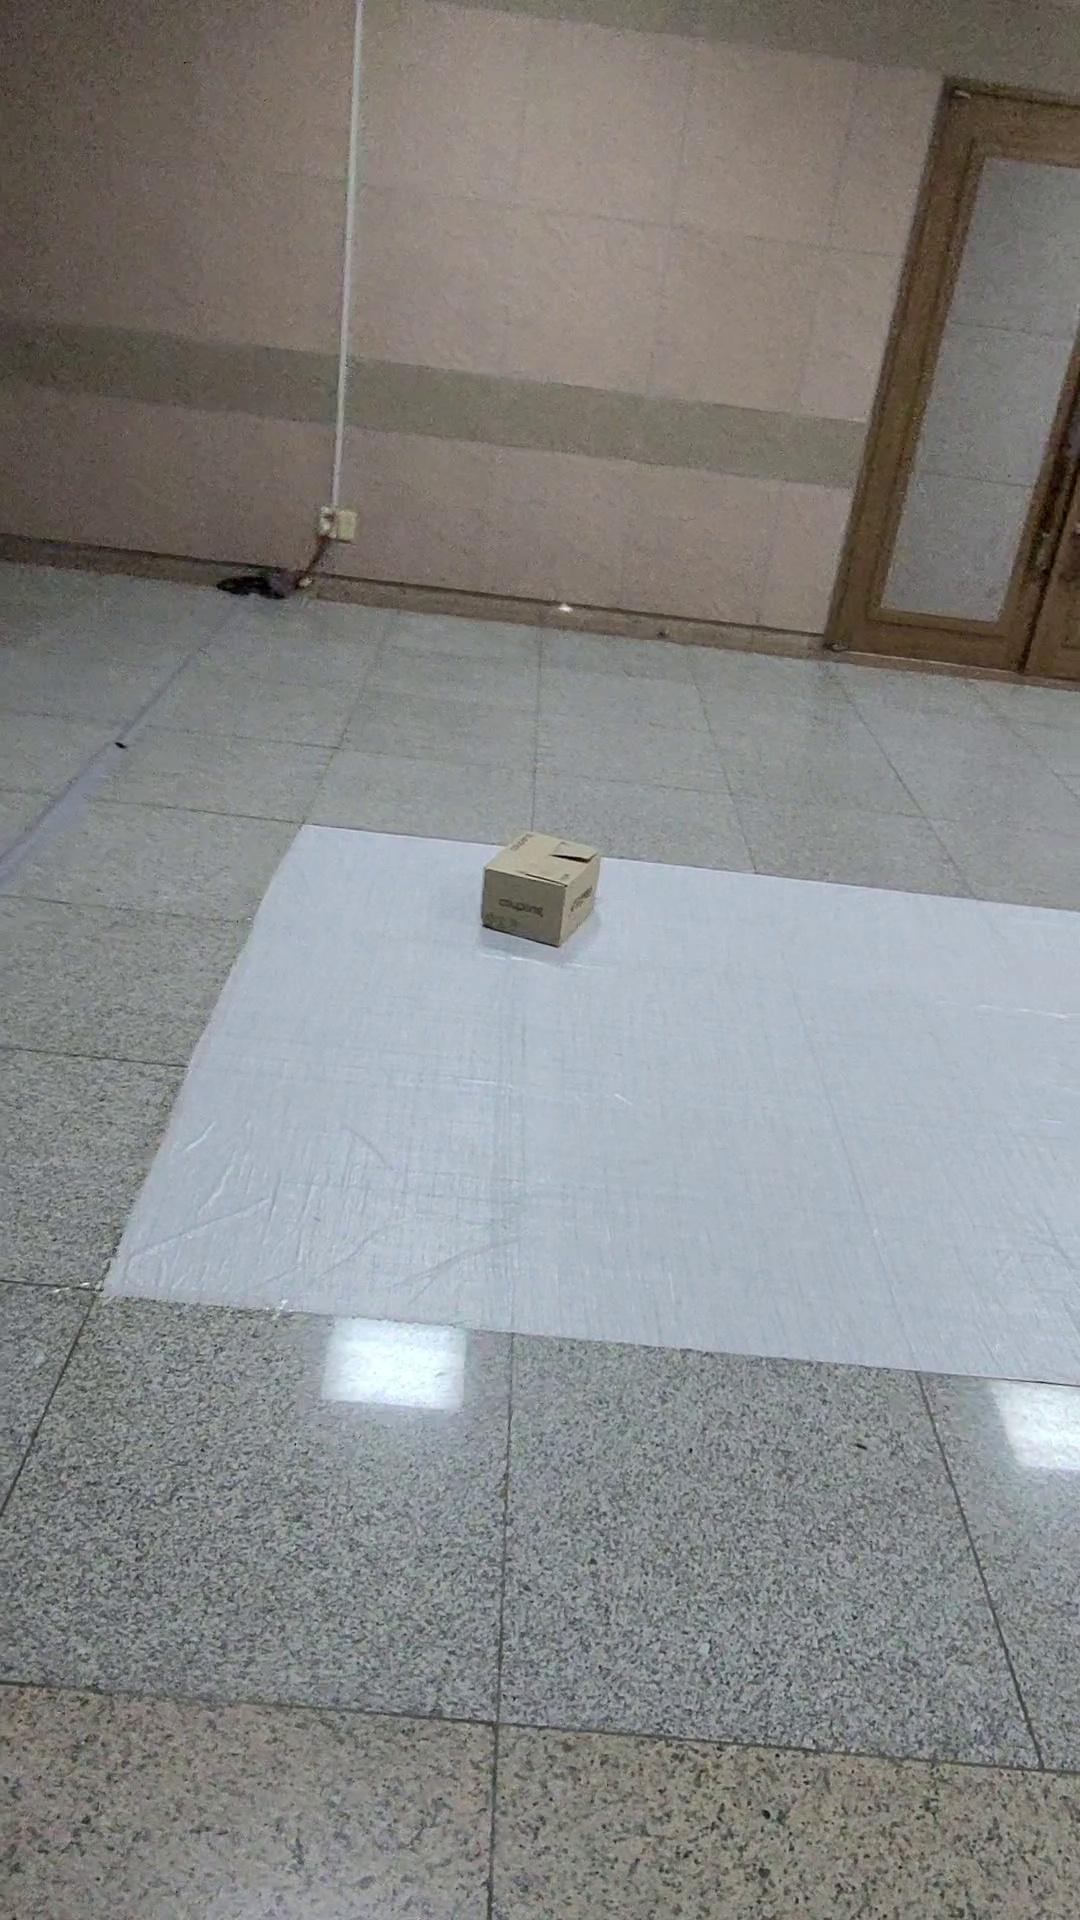Box: (440, 808, 638, 968)
